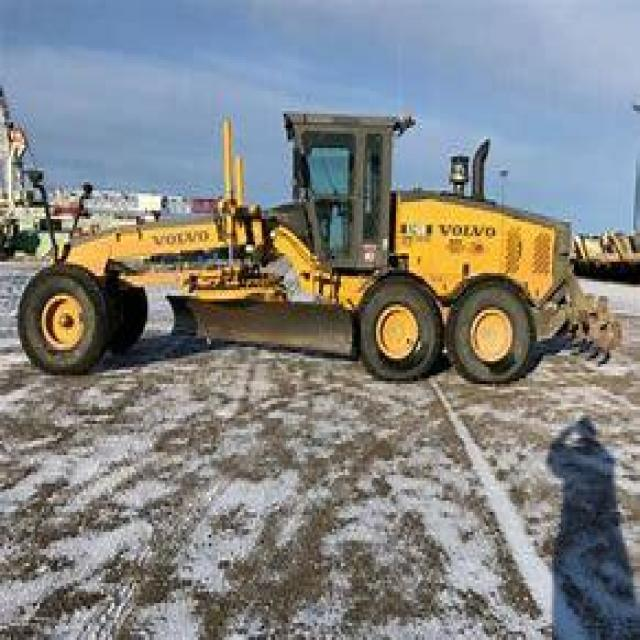Grader: (29, 105, 631, 404)
